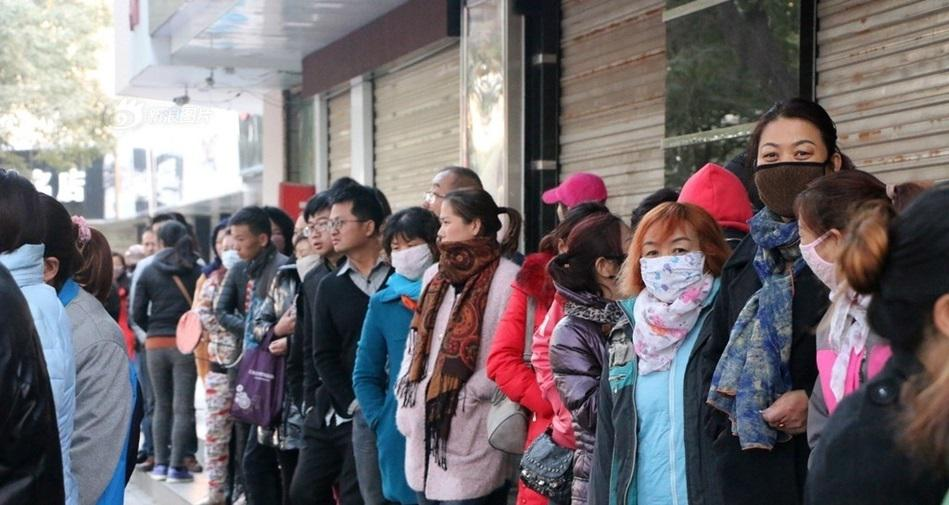NONE: (436, 206, 469, 253), (421, 181, 455, 226), (331, 208, 361, 255), (306, 207, 333, 254), (231, 228, 254, 261), (141, 232, 160, 256)
OK: (757, 137, 833, 213), (640, 234, 703, 297), (796, 220, 843, 285), (386, 235, 434, 283), (294, 243, 320, 283), (221, 236, 243, 270)
